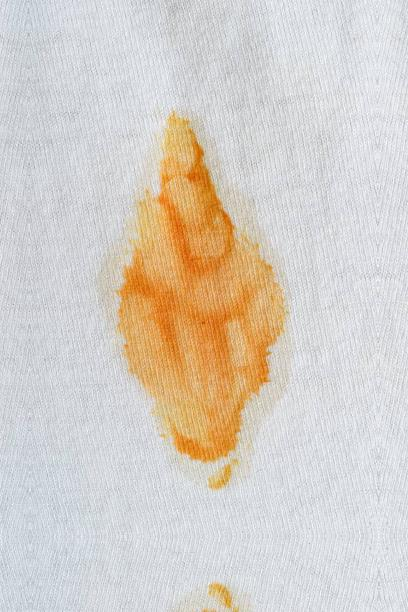stain: (111, 103, 296, 493)
